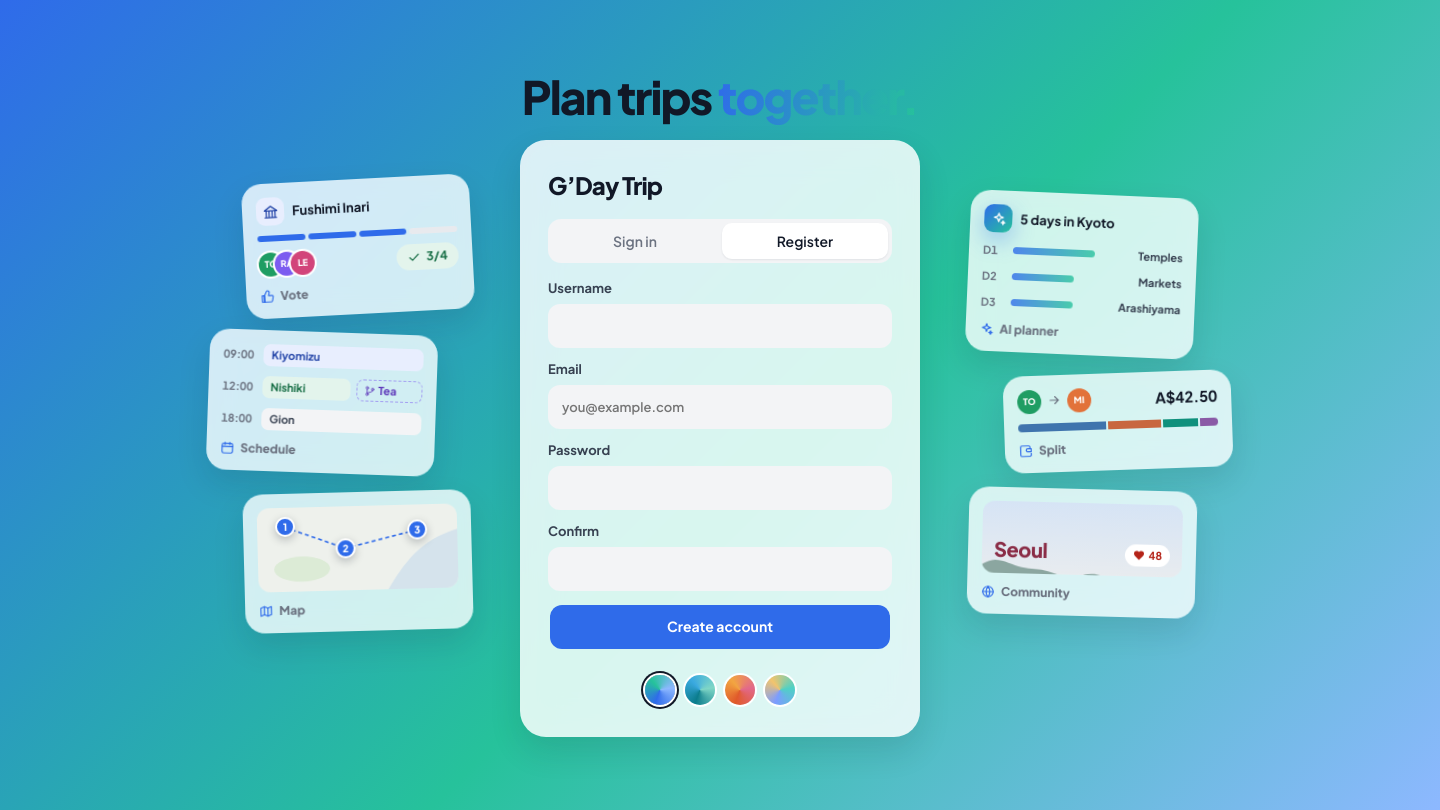
Test: Sign in and register › register checks the password length and that both passwords match
The image size is (1440, 810).
Type "Mia" into the field labelled "Username" at [720, 326], box [548,304,892,348]
Type "mia@example.test" into the field labelled "Email" at [720, 407], box [548,385,892,429]
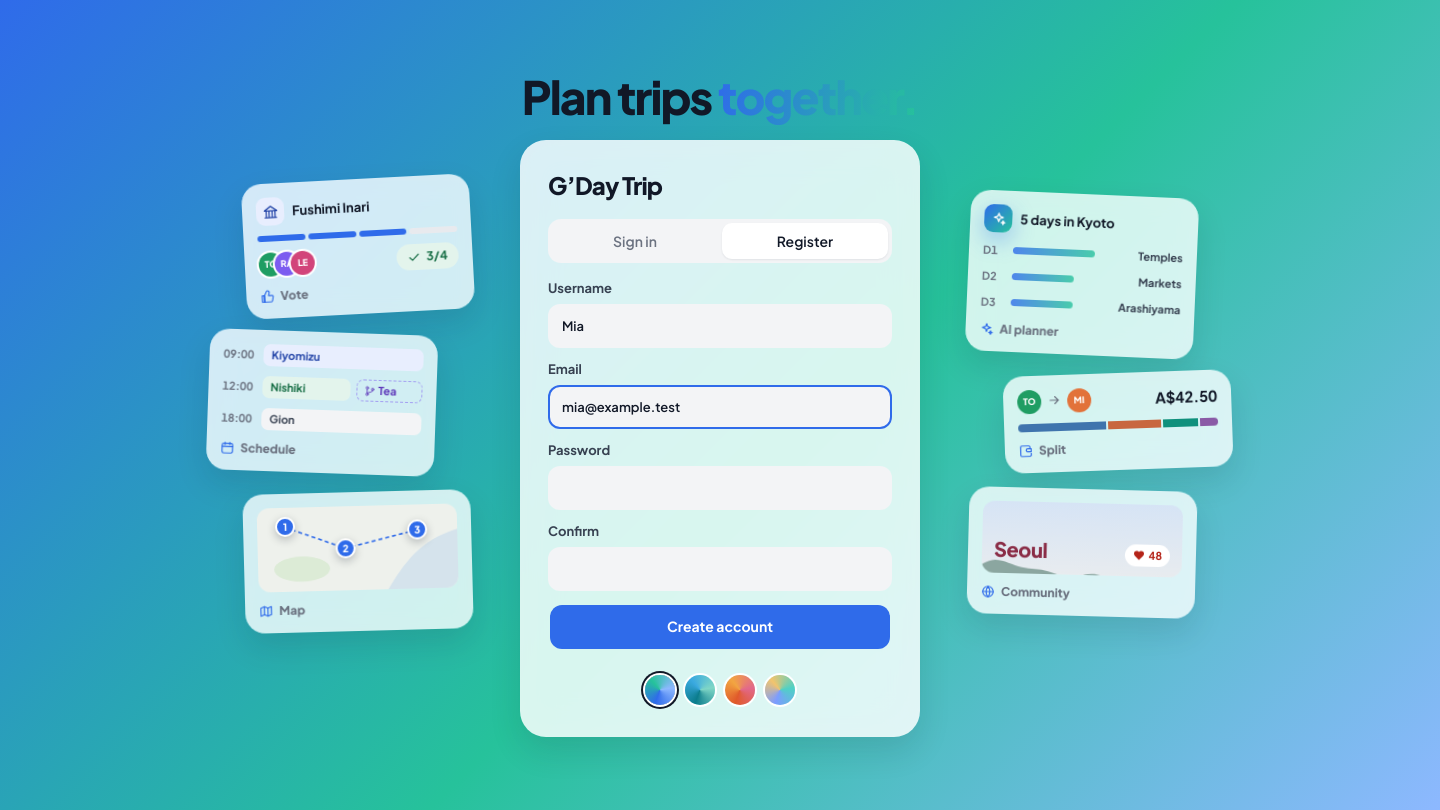
Type "short" into the password field labelled "Password" at [720, 488], box [548,466,892,510]
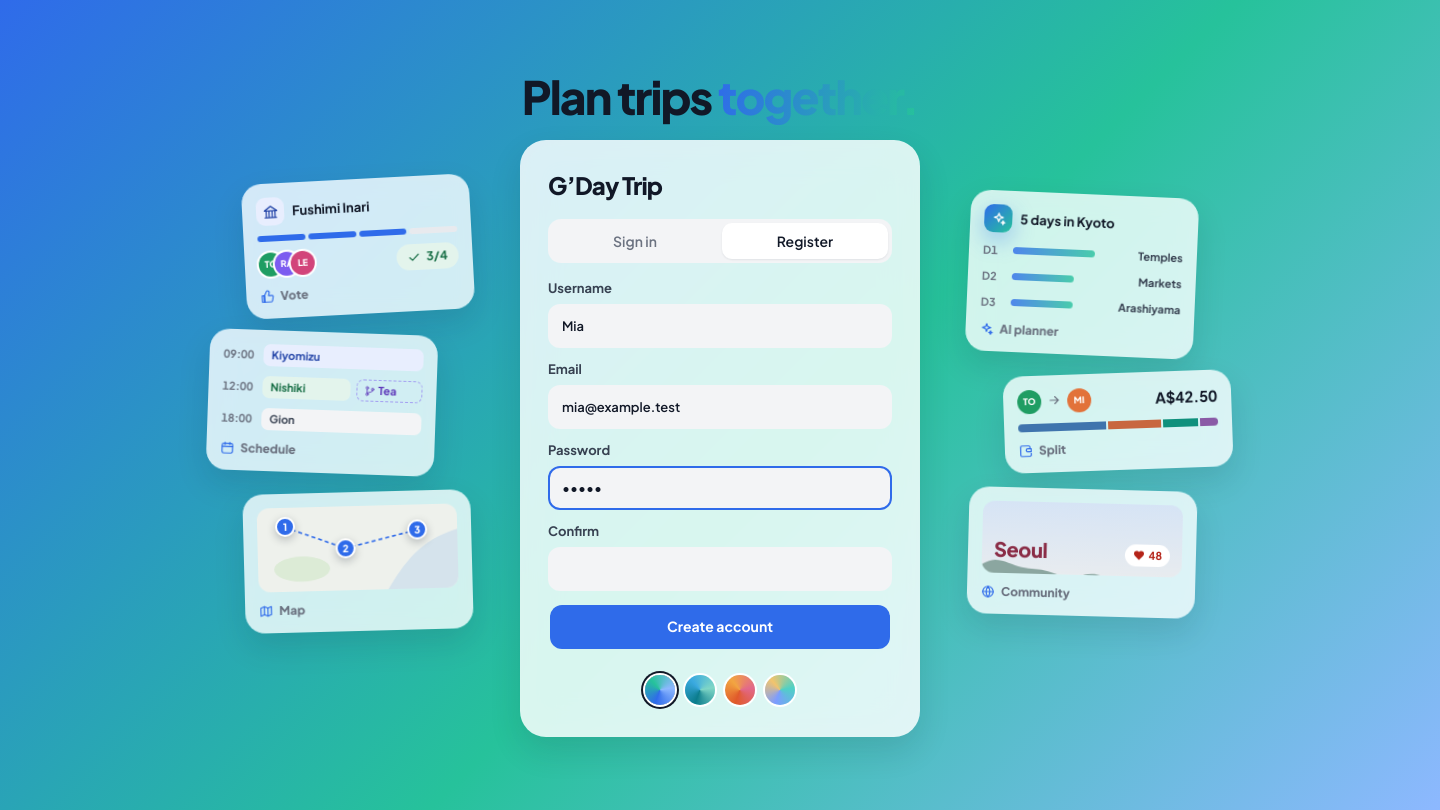
Click the button "Create account" at [720, 626], box [550,604,890,648]
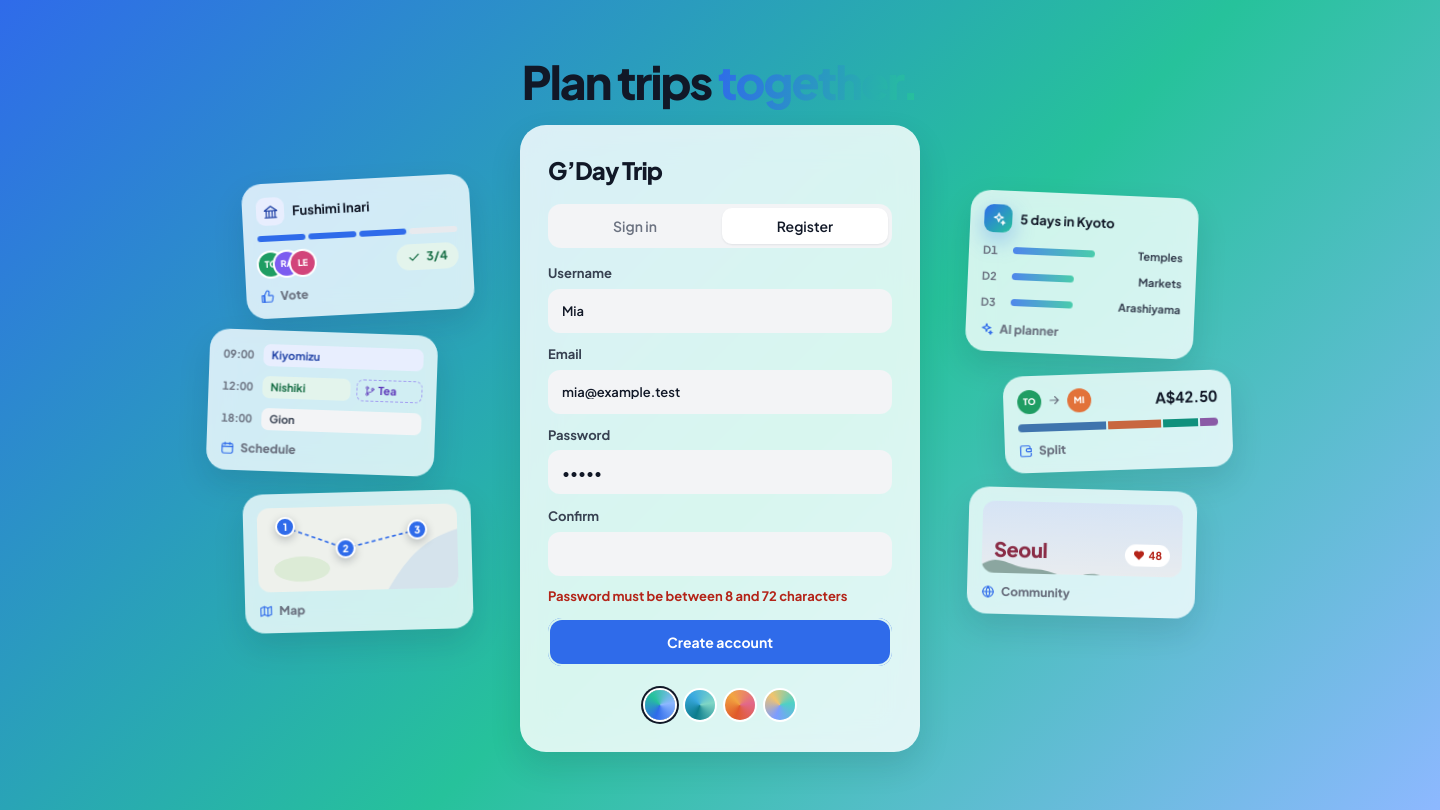
expect the text "Password must be between 8 and 72 characters" is shown: met, box [548,587,892,606]
Type "long-enough-1" into the password field labelled "Password" at [720, 472], box [548,450,892,494]
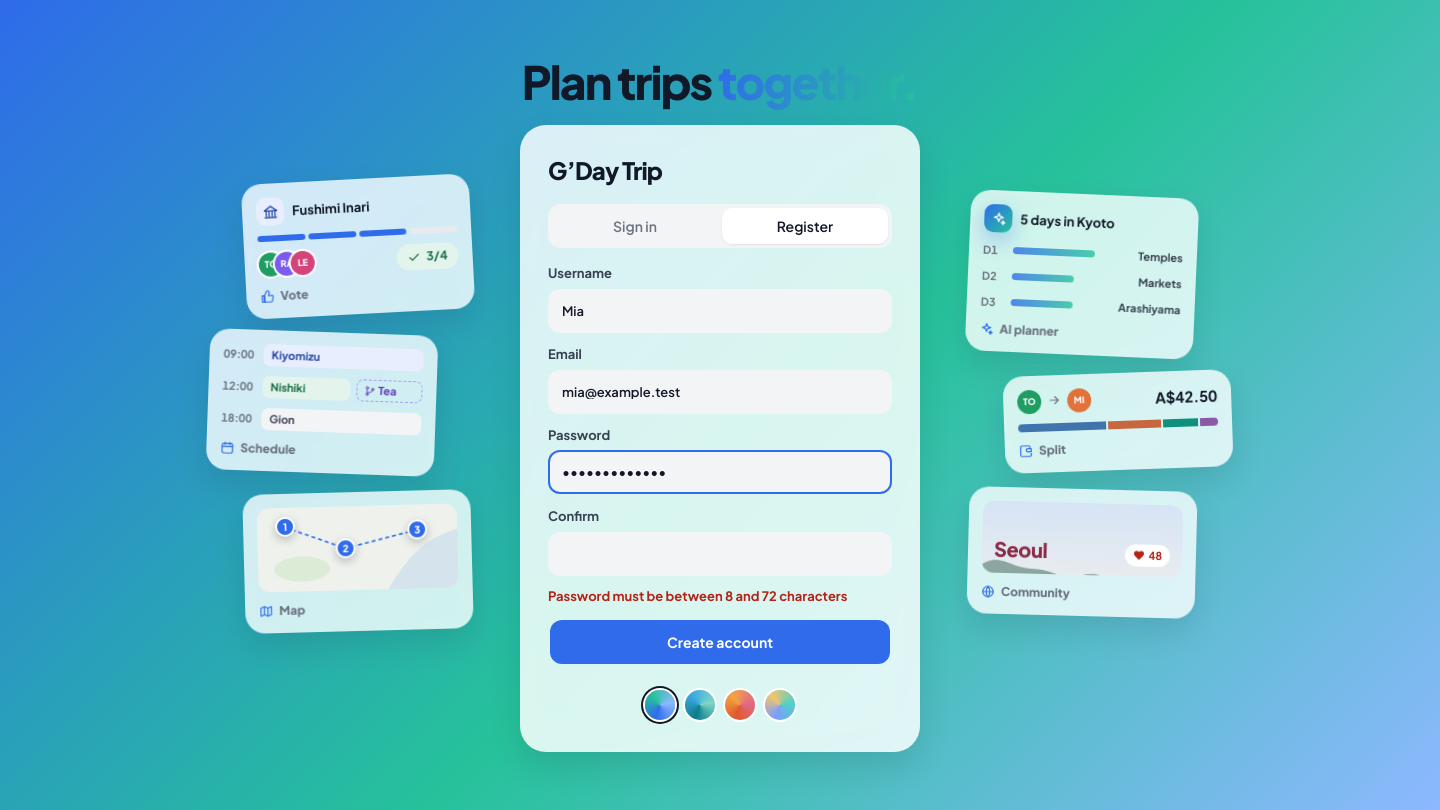
Type "long-enough-2" into the password field labelled "Confirm" at [720, 553], box [548,531,892,575]
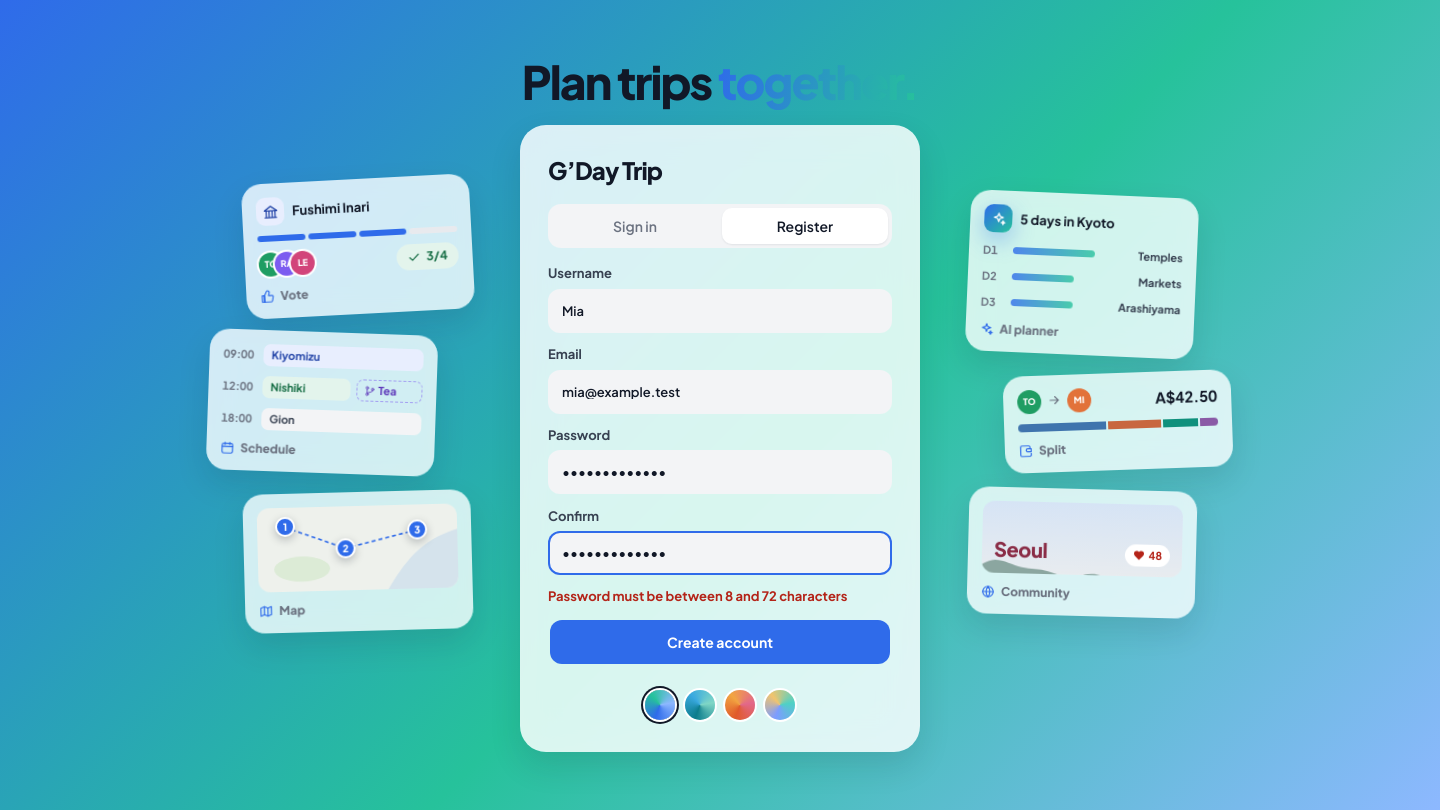
Click the button "Create account" at [720, 642], box [550,620,890,664]
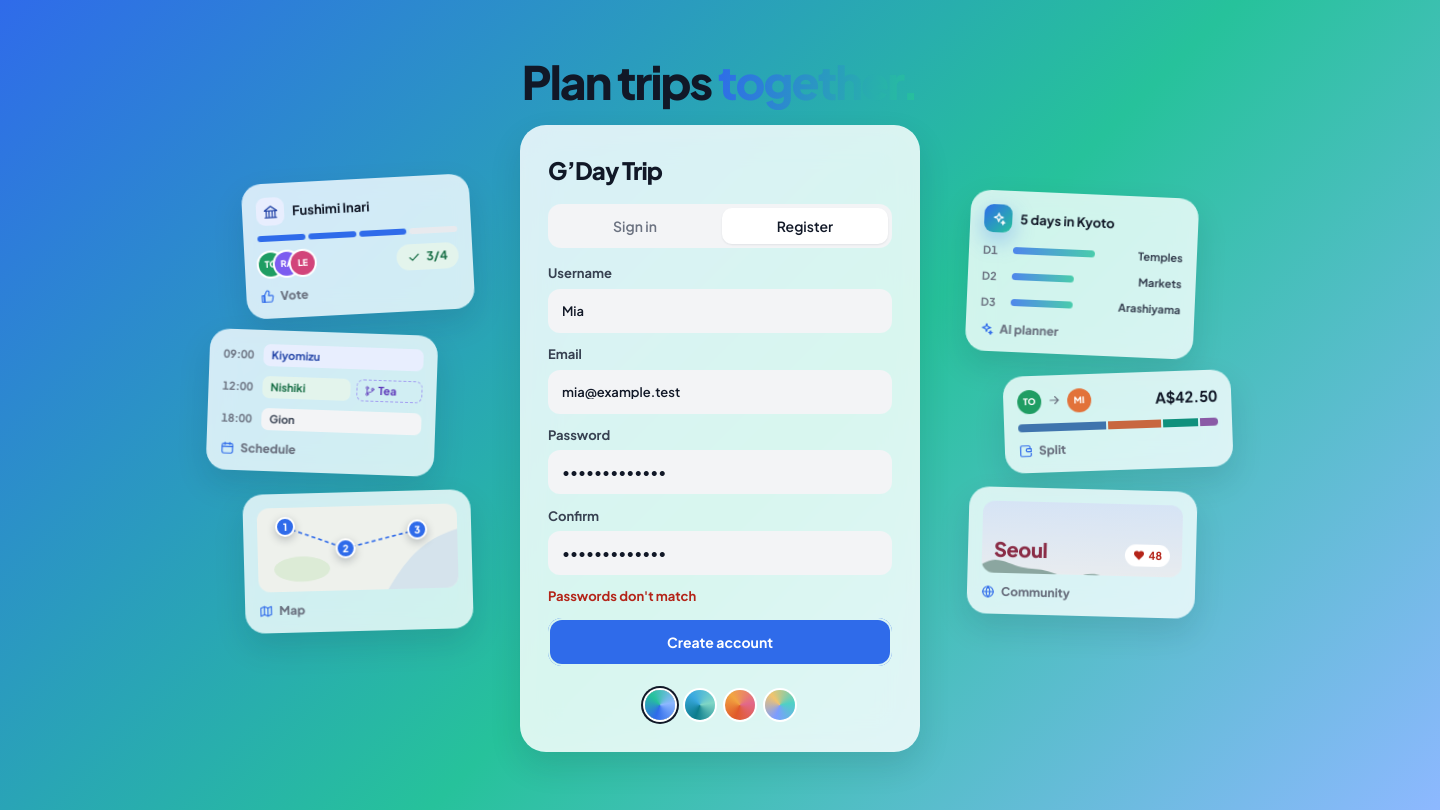
expect the text "Passwords don't match" is shown: met, box [548,588,696,604]
